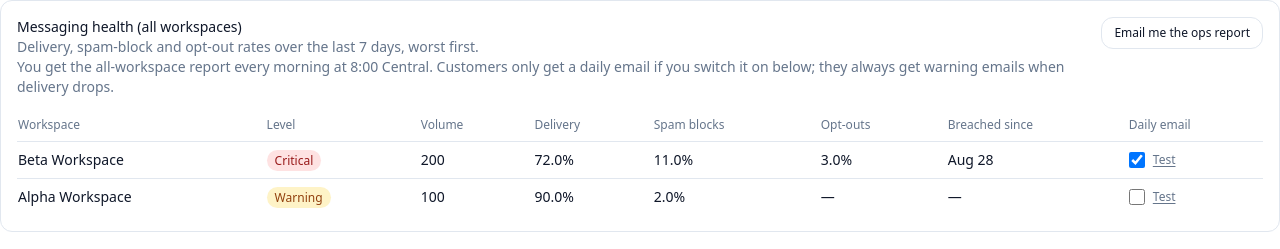
PlatformMessagingHealth › shows the per-row test result when nothing was sent
Click the button with aria-label "Send test for Beta Workspace". click: (1164, 160)
box: [1153,152,1176,168]
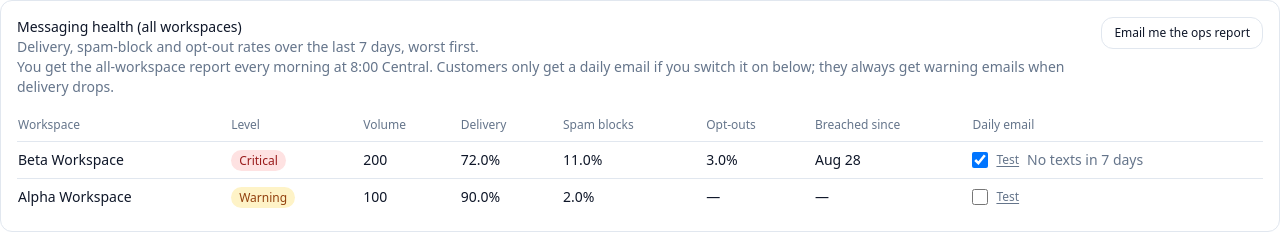
Result: the text "No texts in 7 days" is shown at [1027,150,1143,170]
